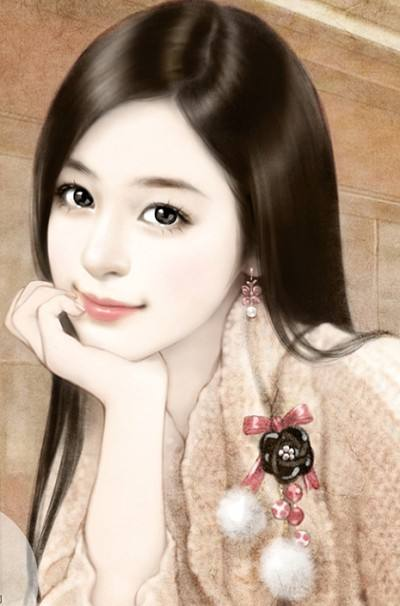person: (51, 31, 400, 548)
